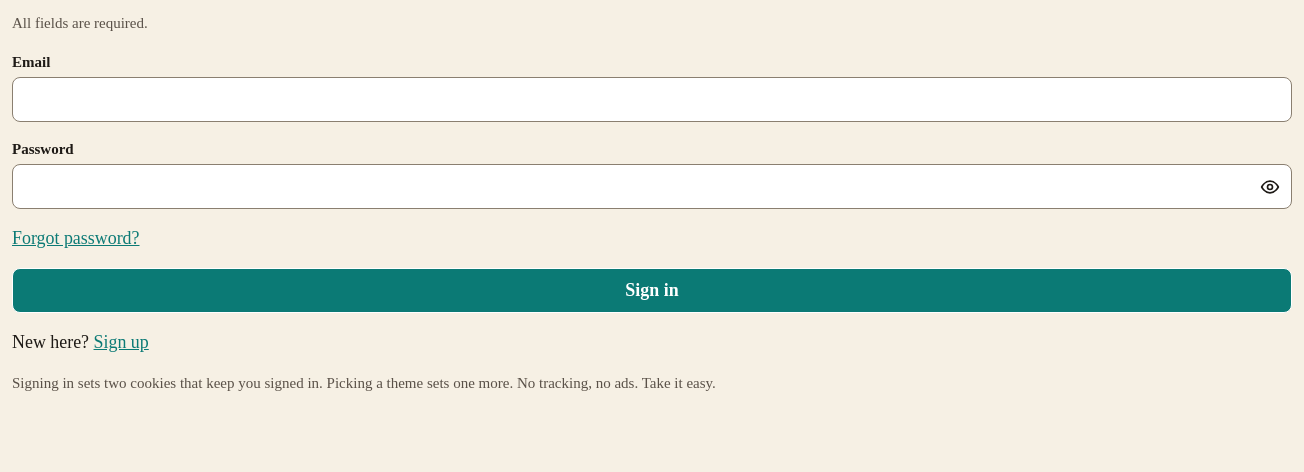
Test: SignInForm › leaves focus alone when only a form error comes back
The image size is (1304, 472).
In the field labelled "Email": (652,99) [12, 77, 1292, 122], type "e2e-dude@example.com"
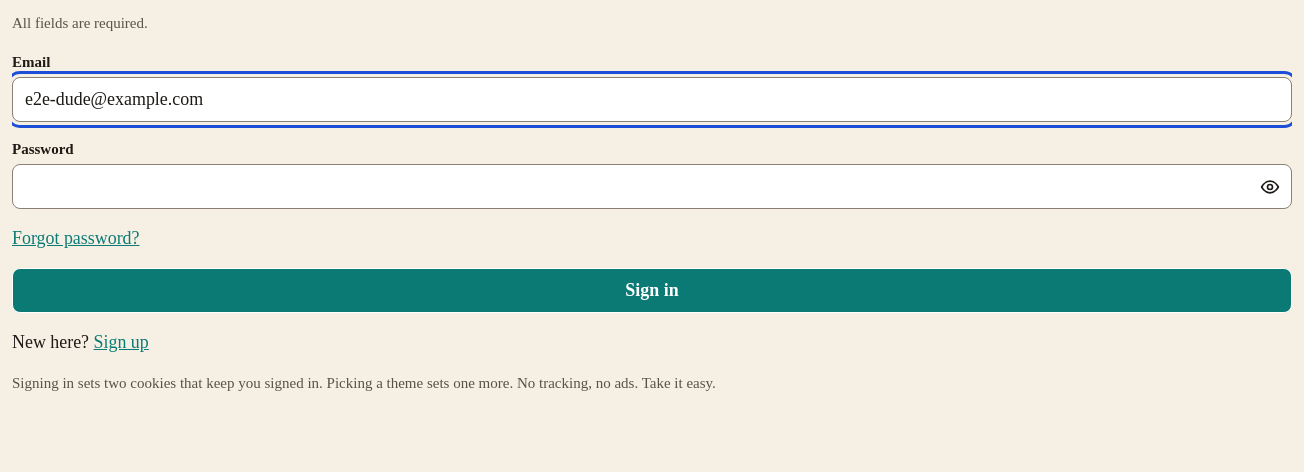
In the password field labelled "Password": (652,187) [12, 164, 1292, 209], type "not-a-real-password"
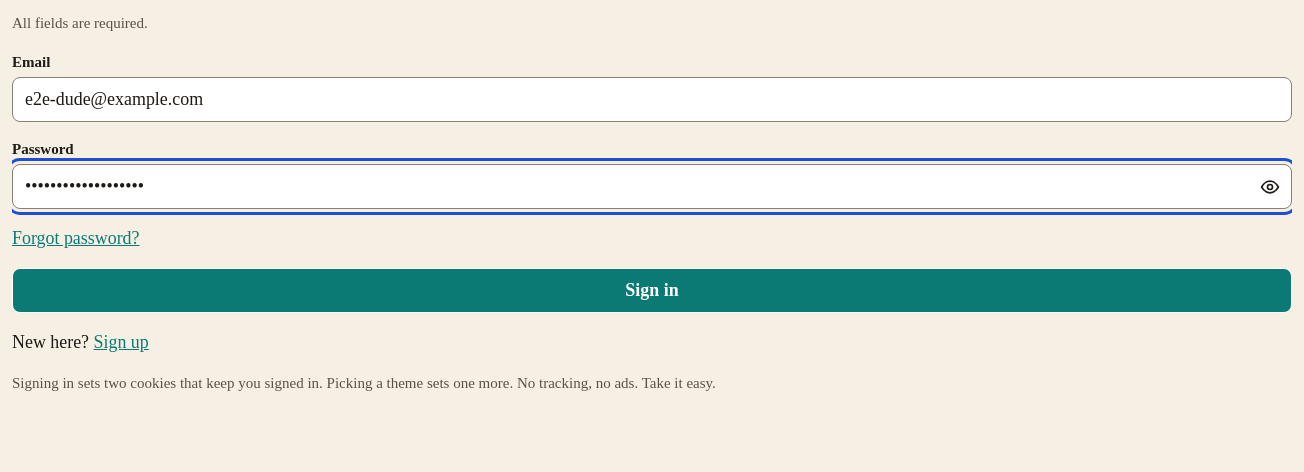
Click the button "Sign in": (652,291) [12, 268, 1292, 313]
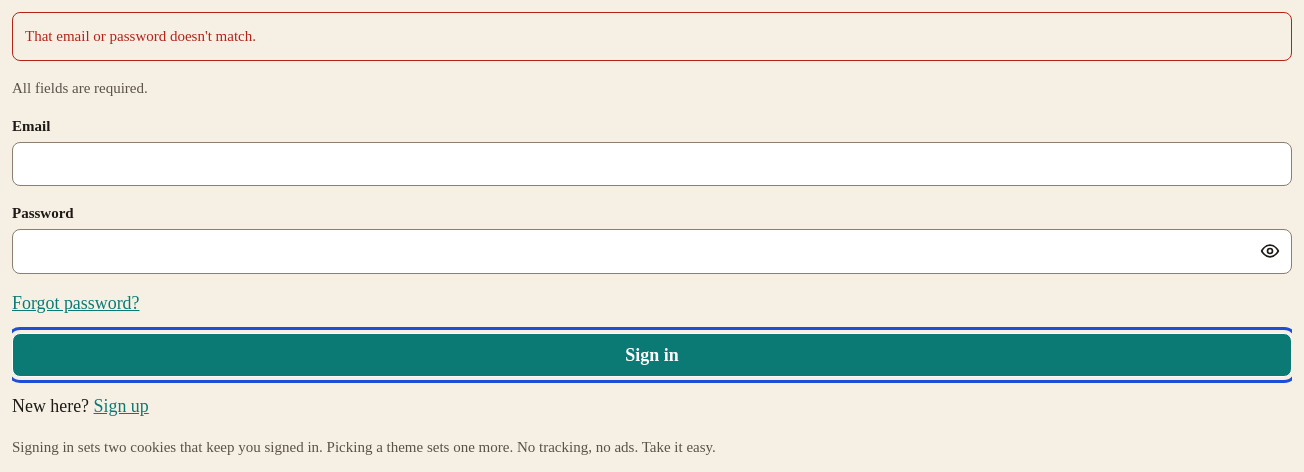
Now the message "That email or password doesn't match." is shown, box [12, 12, 1292, 60]
